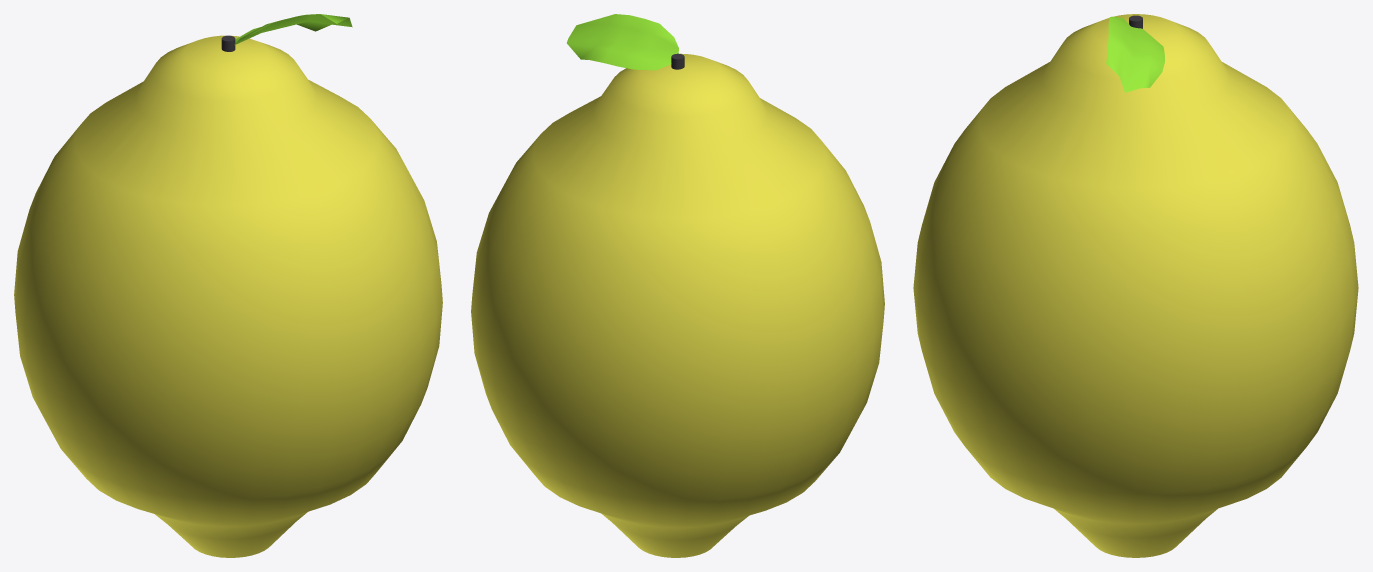
Rendered from lemon.glb.
The picture shows the model from 3 angles, left to right: view 1: azimuth 30°, elevation 25°; view 2: azimuth 150°, elevation 25°; view 3: azimuth 270°, elevation 25°; orthographic projection. The views are drawn at different scales.
Visible parts, largest first — view 1: Sphere, Plane; view 2: Sphere, Plane; view 3: Sphere, Plane.
Boxes of the visible parts, bbox=[...] form: Sphere: bbox=[14, 35, 442, 557]; Plane: bbox=[234, 14, 352, 44]; Sphere: bbox=[471, 53, 884, 557]; Plane: bbox=[567, 14, 678, 70]; Sphere: bbox=[913, 14, 1358, 557]; Plane: bbox=[1106, 16, 1164, 92].
Bounding box in the file's own units: 2 × 2.74 × 2.
